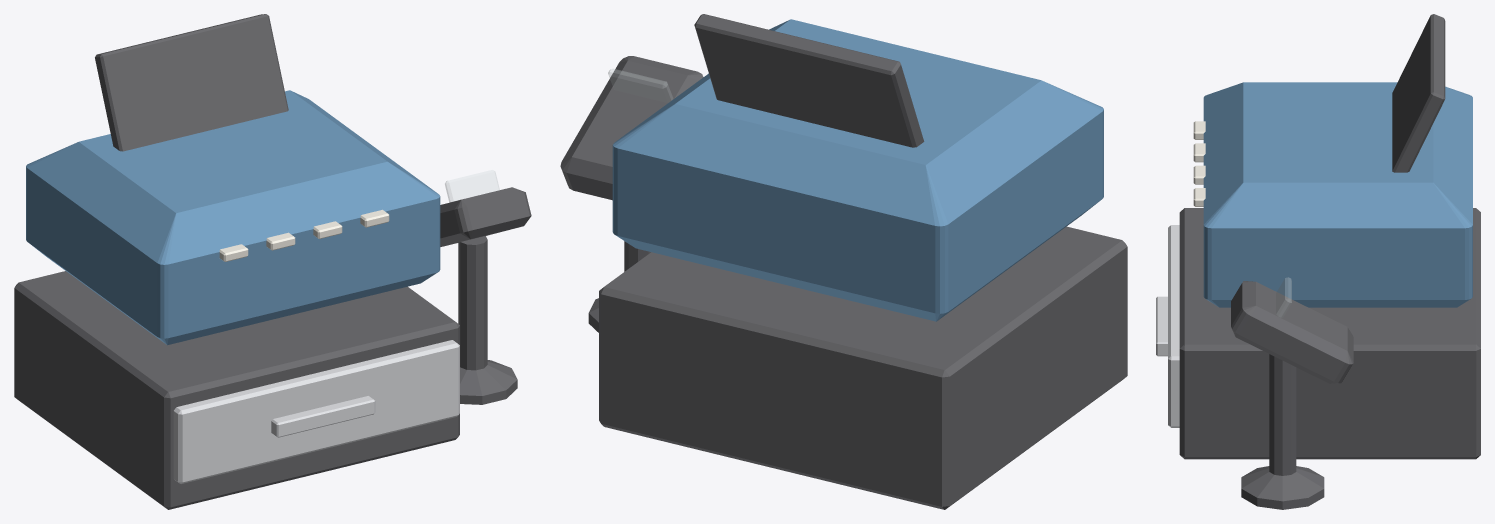
File: indoor-market-hall-and-traders-till-and-card-reader-facdd132.glb
3 renders of one model, left to right at view 1: azimuth 30°, elevation 25°; view 2: azimuth 150°, elevation 25°; view 3: azimuth 270°, elevation 25°, orthographic. The views are drawn at different scales.
Parts seen in each view (by area): view 1: till-and-card-reader, till-drawer; view 2: till-and-card-reader; view 3: till-and-card-reader, till-drawer.
Part boxes in pixels (<box>): till-and-card-reader: <box>14,14,531,509</box>; till-drawer: <box>173,340,459,483</box>; till-and-card-reader: <box>560,14,1127,509</box>; till-and-card-reader: <box>1179,14,1480,509</box>; till-drawer: <box>1156,225,1179,427</box>.
Size of the model in its own units: 0.565 by 0.4707 by 0.41.
